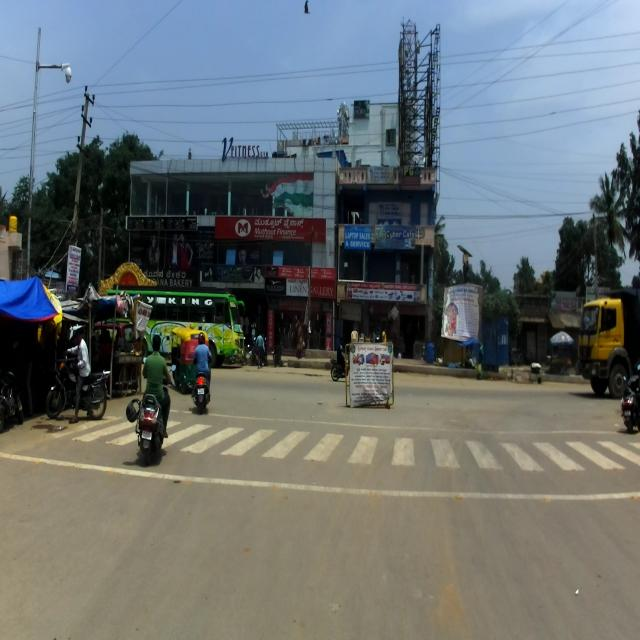motorcycle_Hero: (44, 343, 111, 420)
motorcycle_TVS: (328, 354, 345, 382)
scooter: (126, 354, 176, 466), (618, 368, 640, 434), (191, 359, 213, 415)
truck: (576, 292, 638, 401)
